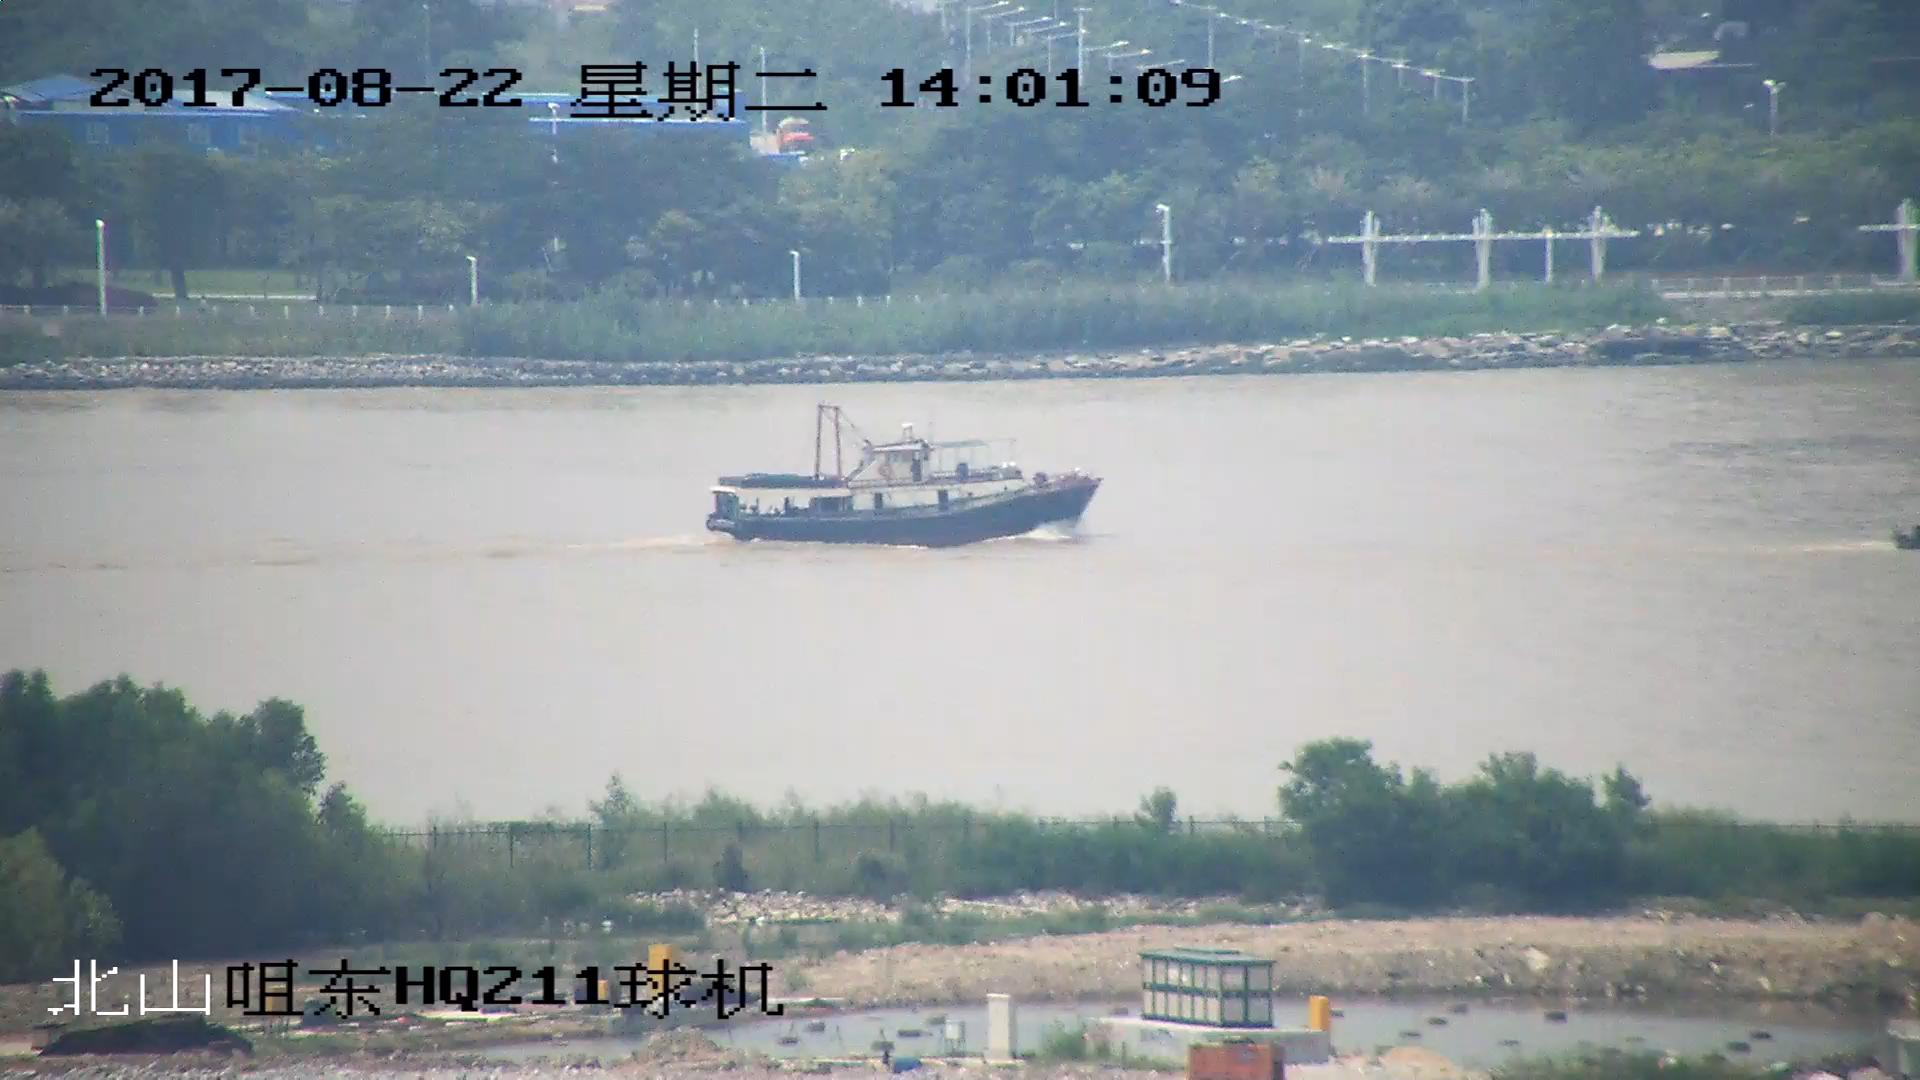fishing boat: (704, 403, 1099, 550)
